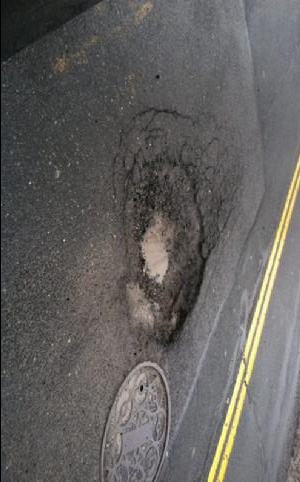pothole: (122, 150, 209, 345)
